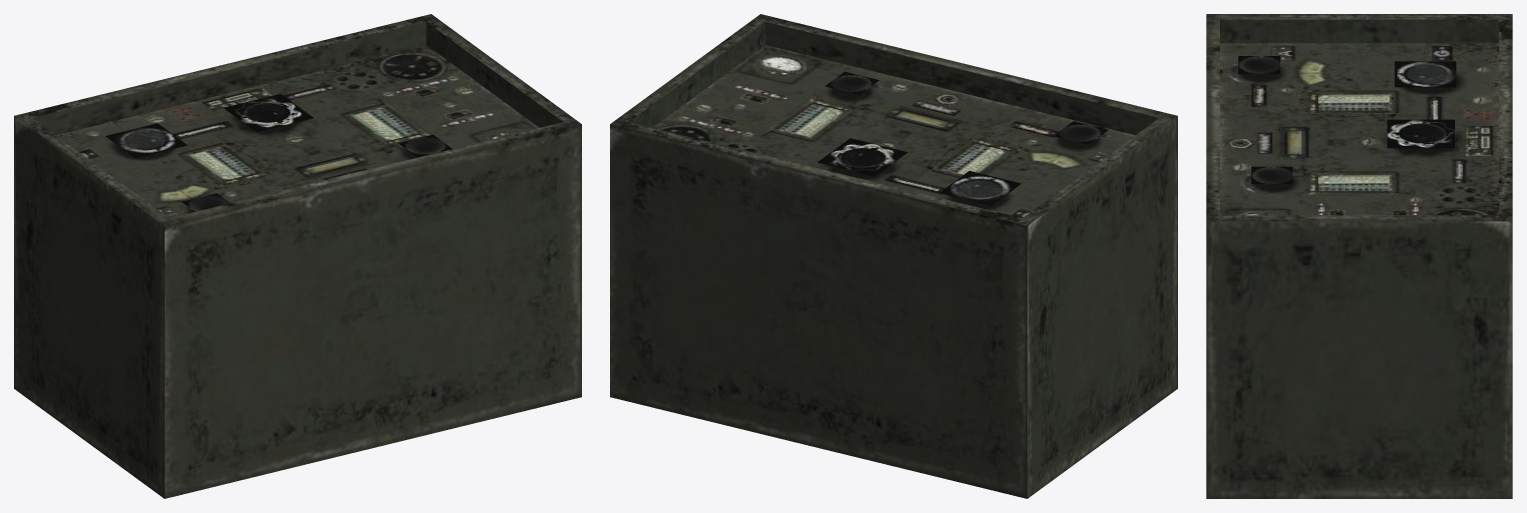
File: military_german_fieldradio_green_obj.glb
3 views of the same model, side by side, from view 1: azimuth 30°, elevation 25°; view 2: azimuth 150°, elevation 25°; view 3: azimuth 270°, elevation 25° (orthographic).
Size of the model in its own units: 24.43 by 15.27 by 15.27.
2 materials, 2 textured.
